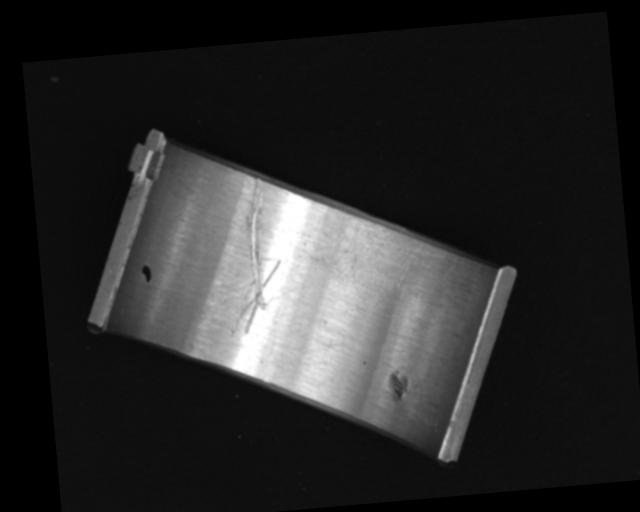blot: (139, 263, 153, 285)
bruise: (387, 369, 410, 404)
nick: (219, 173, 290, 335)
scratch: (328, 208, 461, 301)
